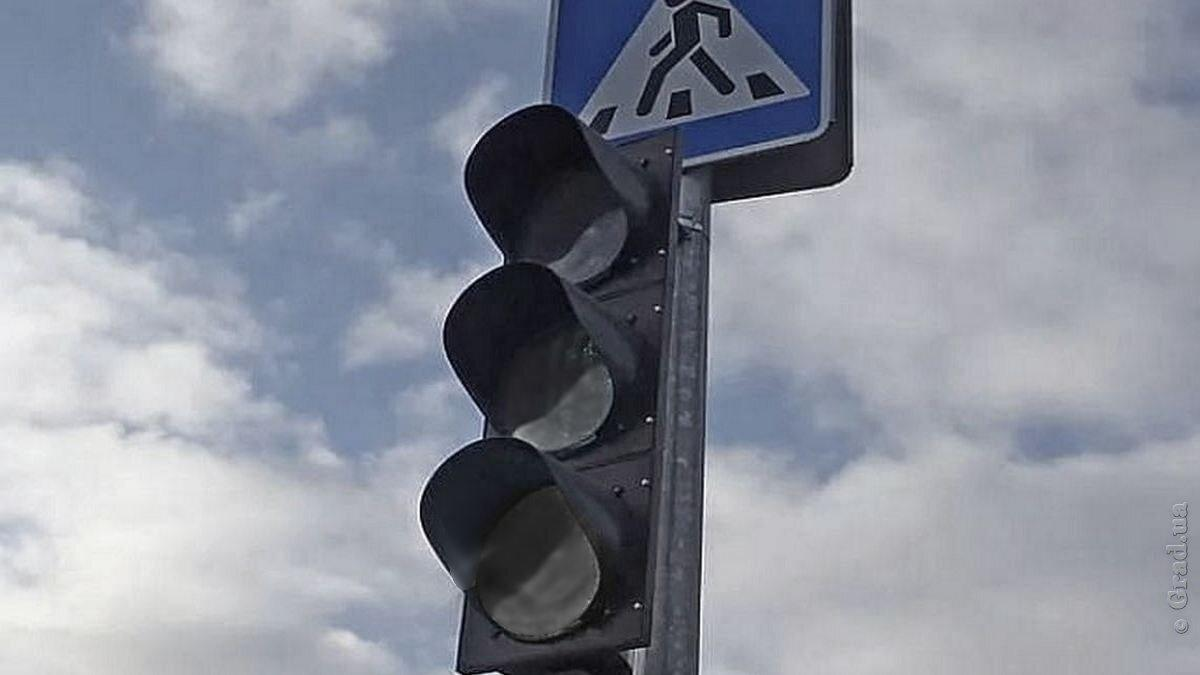obstructed_road_sign: (543, 0, 834, 166)
off traffic light: (420, 103, 684, 675)
